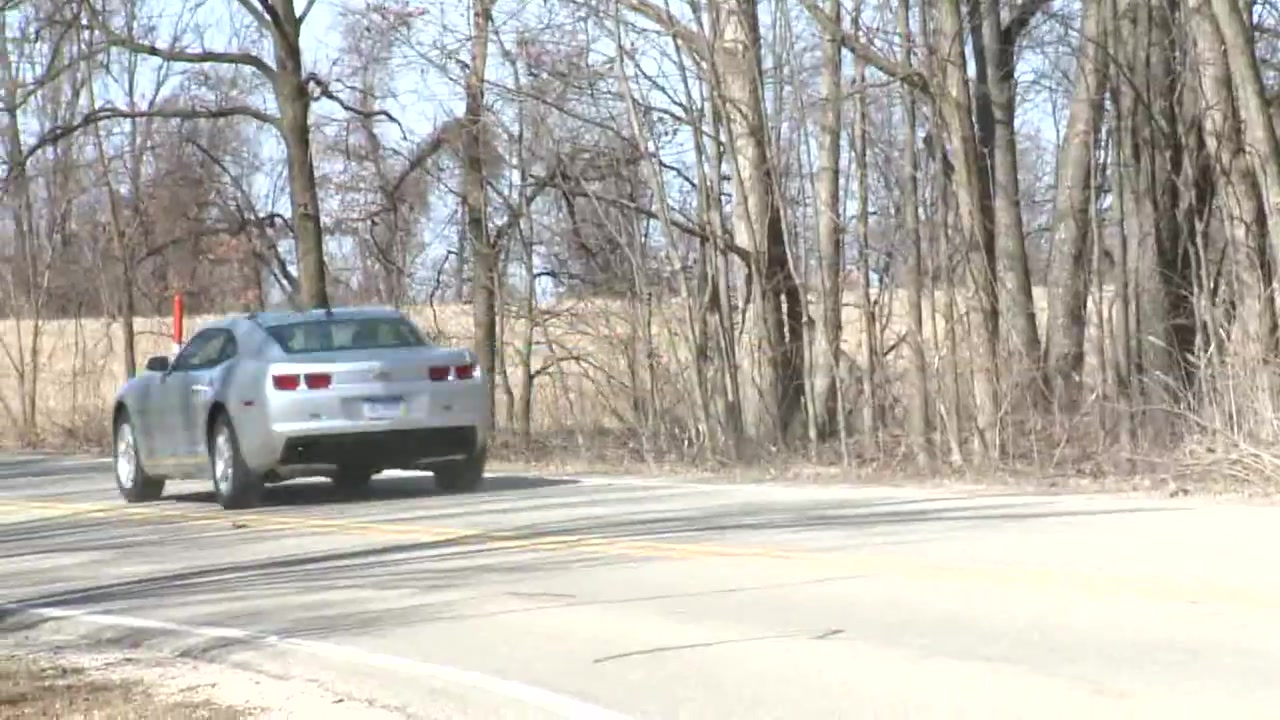car: (110, 303, 498, 505)
